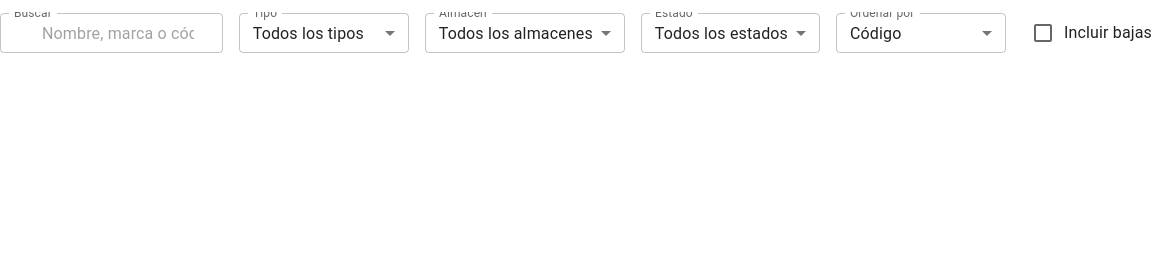
Test: FiltrosInventario › ofrece los cuatro almacenes mas la opcion de verlos todos
This screenshot has width=1164, height=279.
Step 1. Click the dropdown named "almacén" → (516, 33), box left=439, top=24, right=593, bottom=42
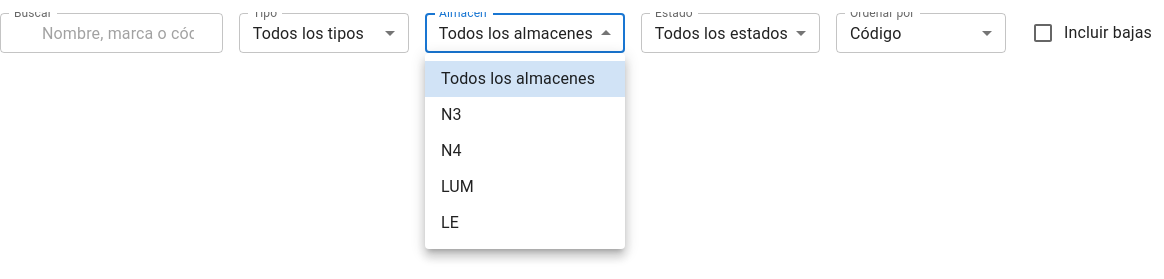
Check: the option "Todos los almacenes" is shown, box left=425, top=61, right=625, bottom=97
Check: the option "N3" is shown, box left=441, top=105, right=462, bottom=124
Check: the option "N4" is shown, box left=441, top=141, right=462, bottom=160
